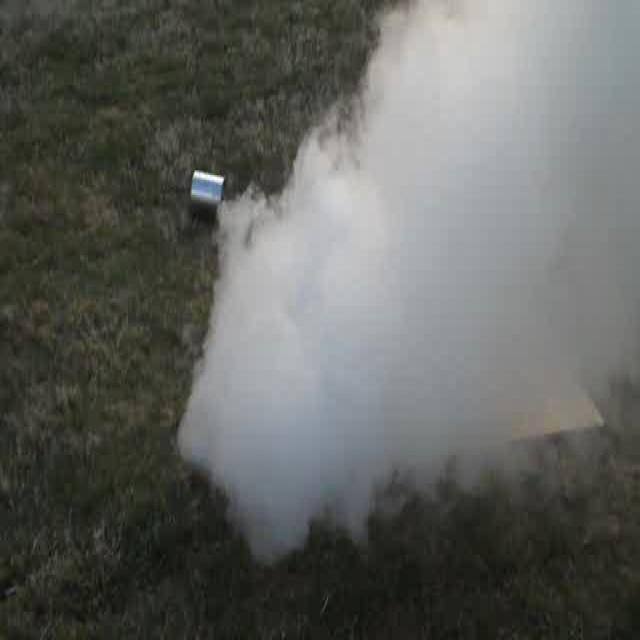Smoke: (204, 3, 636, 547)
